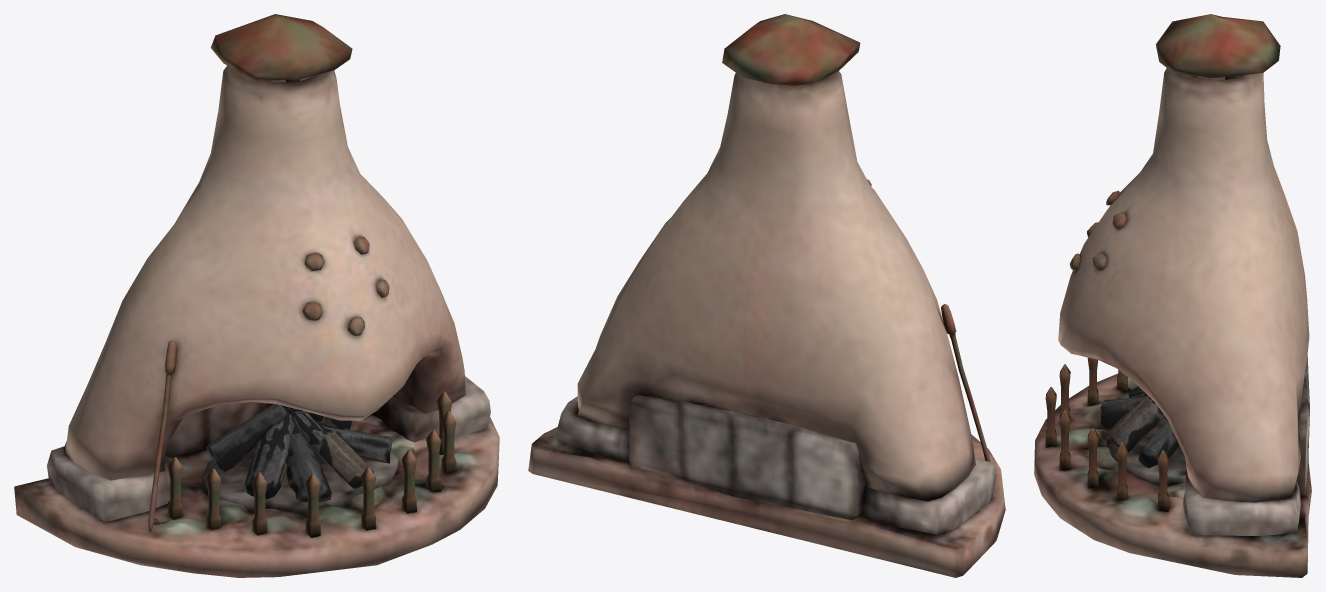
File: comfort3_t2_hearth_fireplace.glb
The picture shows the model from 3 angles, left to right: view 1: azimuth 30°, elevation 25°; view 2: azimuth 150°, elevation 25°; view 3: azimuth 270°, elevation 25°; orthographic projection. The views are drawn at different scales.
Parts seen in each view (by area): view 1: clay_fireplace_01; view 2: clay_fireplace_01; view 3: clay_fireplace_01.
Boxes of the visible parts, bbox=[...] form: clay_fireplace_01: bbox=[14, 14, 499, 577]; clay_fireplace_01: bbox=[528, 14, 1005, 577]; clay_fireplace_01: bbox=[1034, 14, 1311, 577].
Size of the model in its own units: 2.19 by 2.26 by 1.25.
2 materials, 2 textured.
